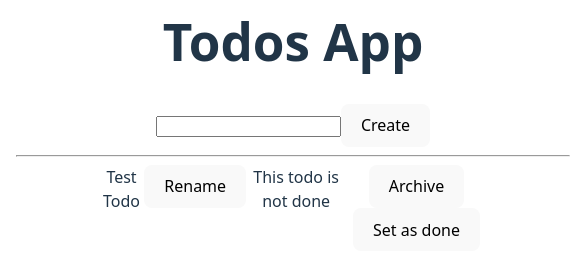
Test: TodoView component › can mark a Todo as completed
Expected: the text "Test Todo" is shown, 103,166 -> 140,212
Click the button "Set as done": (417, 230) 353,208 -> 480,251
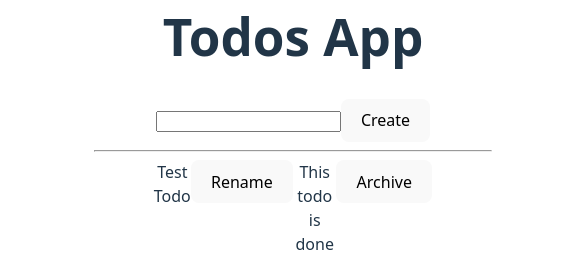
Expected: the text "Test Todo" is shown, 154,161 -> 191,207
Result: the text "This todo is done" is shown at 293,160 -> 336,256
